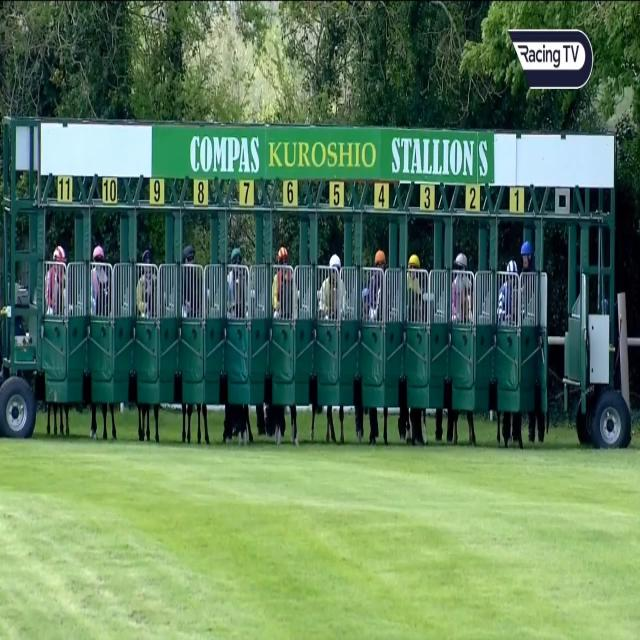horses-racing: (87, 242, 115, 326), (363, 246, 390, 329), (401, 245, 427, 328), (44, 243, 72, 320), (136, 246, 163, 323), (178, 245, 206, 318), (226, 245, 252, 322), (449, 256, 477, 326), (320, 250, 346, 325), (274, 244, 297, 324), (498, 253, 520, 336)
